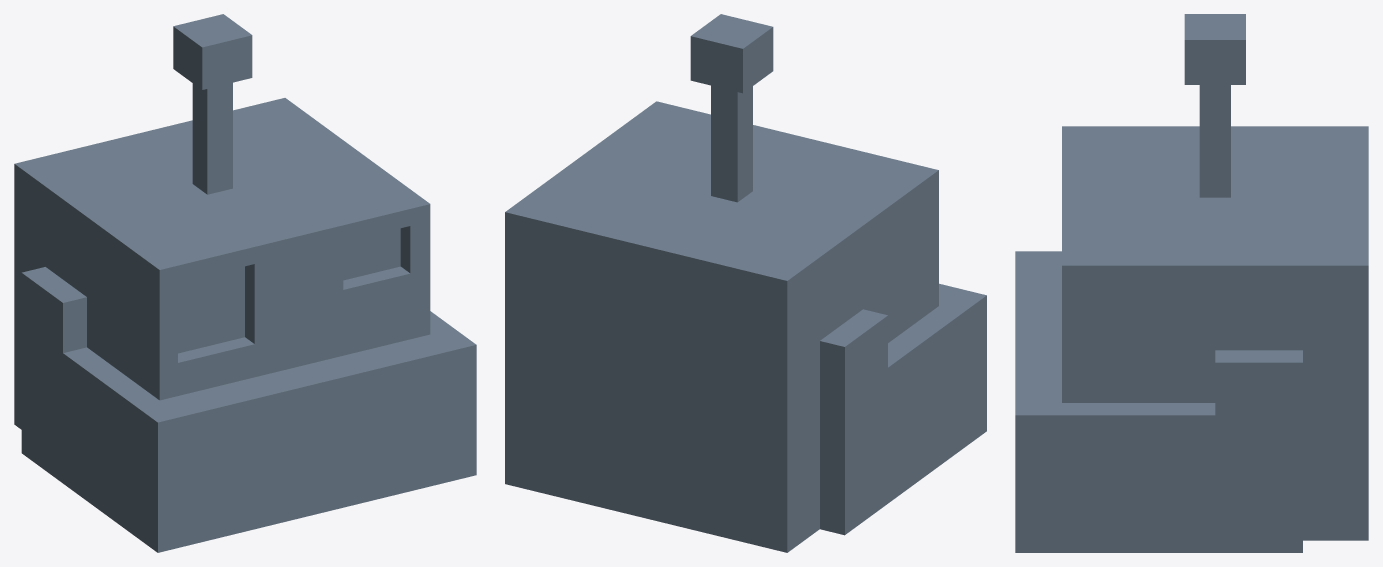
Rendered from Robohead.fbx.
3 renders of one model, left to right at view 1: azimuth 30°, elevation 25°; view 2: azimuth 150°, elevation 25°; view 3: azimuth 270°, elevation 25°, orthographic. The views are drawn at different scales.
Parts seen in each view (by area): view 1: Model; view 2: Model; view 3: Model.
Part boxes in pixels (left/top/right/bottom): Model: left=14, top=14, right=476, bottom=552; Model: left=505, top=14, right=986, bottom=552; Model: left=1015, top=14, right=1368, bottom=552.
Size of the model in its own units: 1.33 by 1.66 by 1.21.
